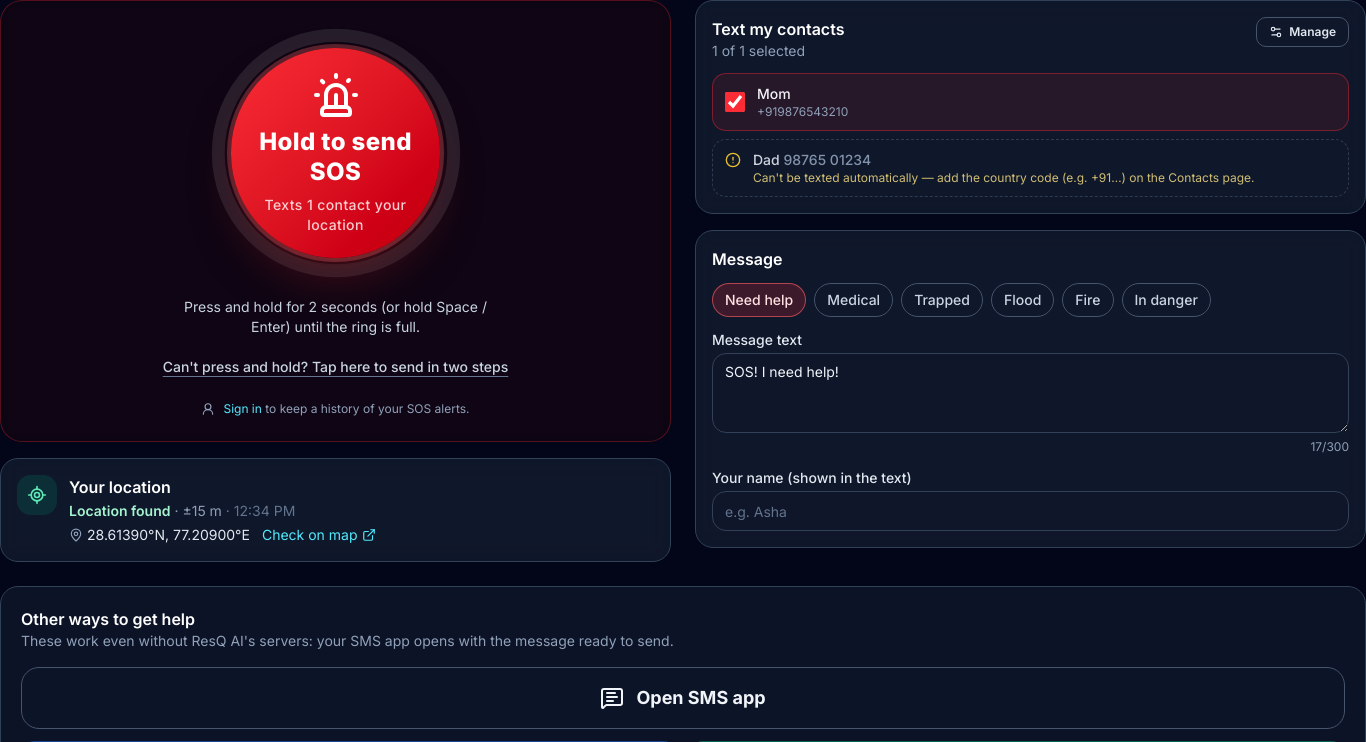
Test case: SOSView › shows per-contact delivery results when texts were sent
Check: the text "Location found" is shown, box [69,502,170,519]
Click the button "Can't press and hold? Tap here to send in two steps". click: (336, 367)
box: [155,353,516,381]
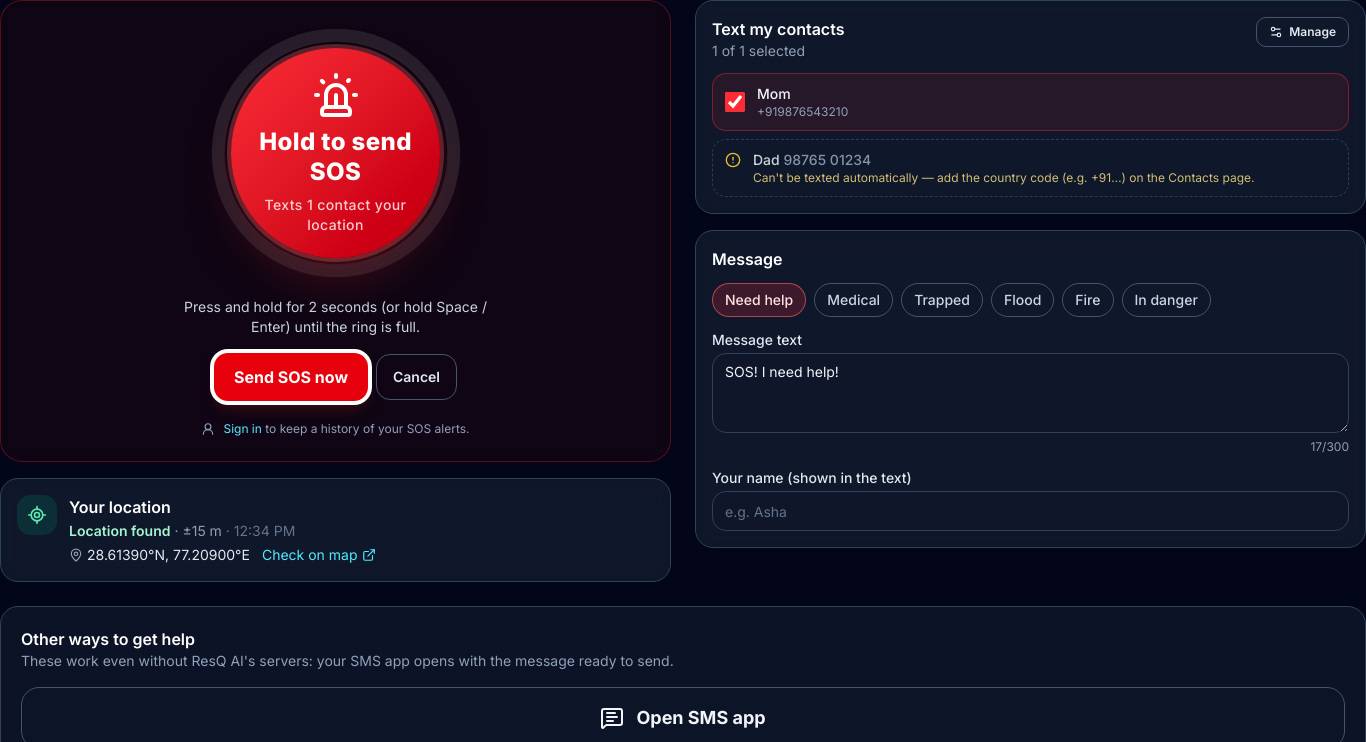
Click the button "Send SOS now". click: (291, 377)
box: [214,353,368,401]
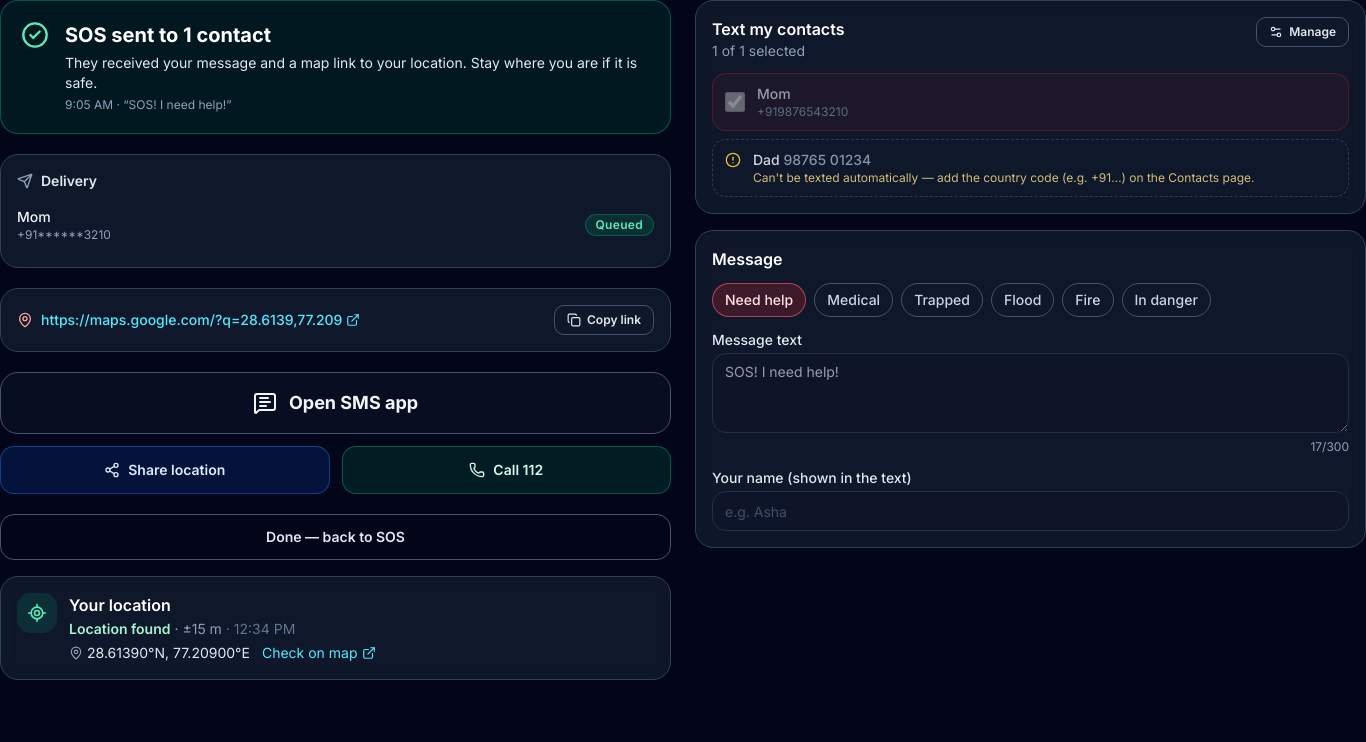
Check: the heading "SOS sent to 1 contact" is shown, box [65,23,271,47]
Check: the text "Mom" in the row of "Queued" is shown, box [17,208,51,225]
Check: the text "Queued" is shown, box [584,214,654,236]
Click the button "Done — back to SOS". click: (336, 537)
box: [0,514,671,560]
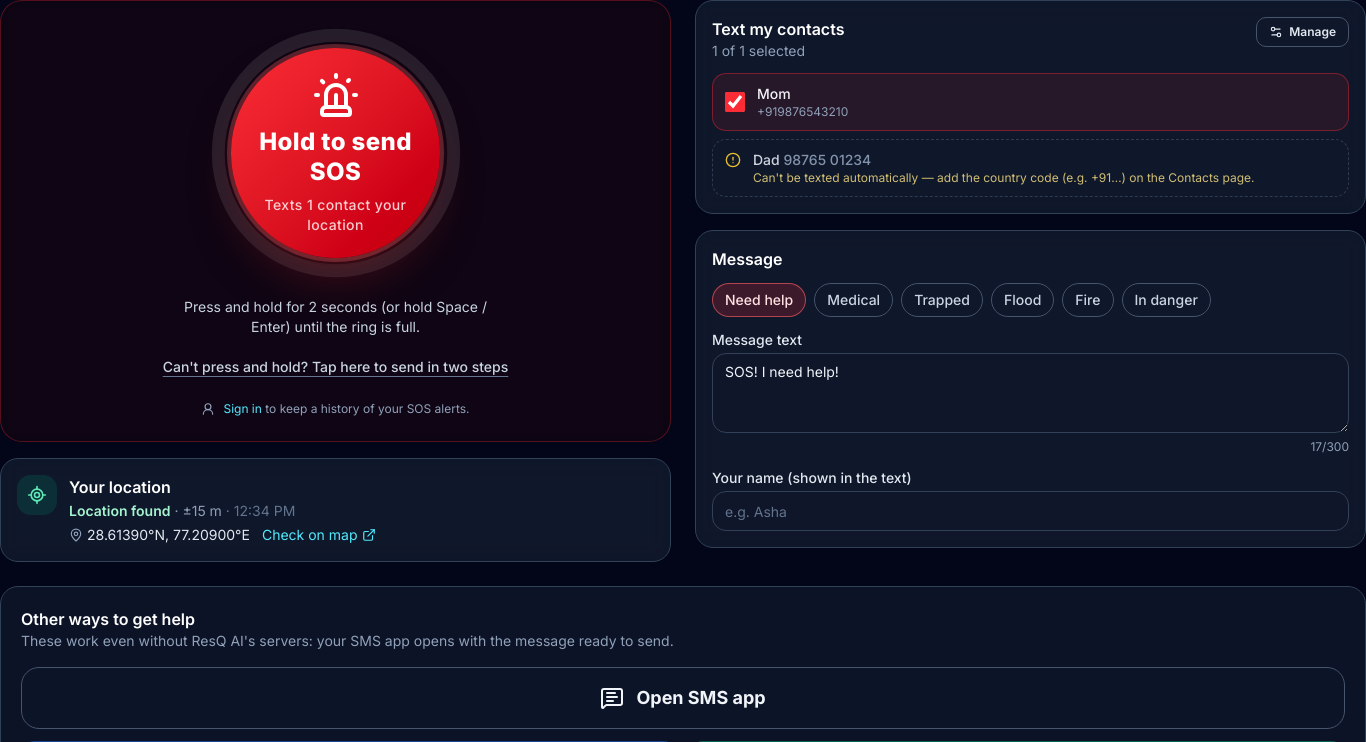
Check: the button "Hold to send SOS Texts 1 contact your location" is shown, box [230,48,440,258]
